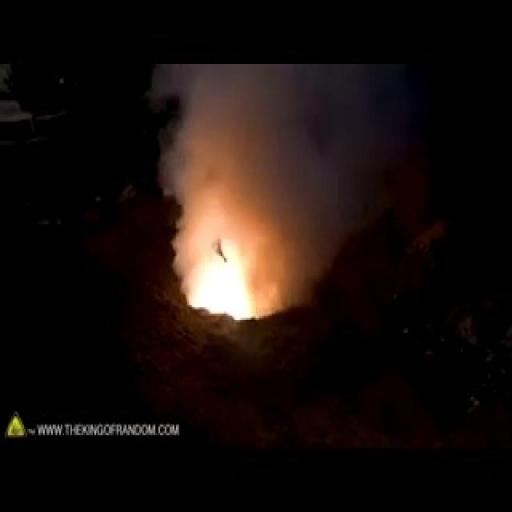smoke: (171, 165, 328, 364)
